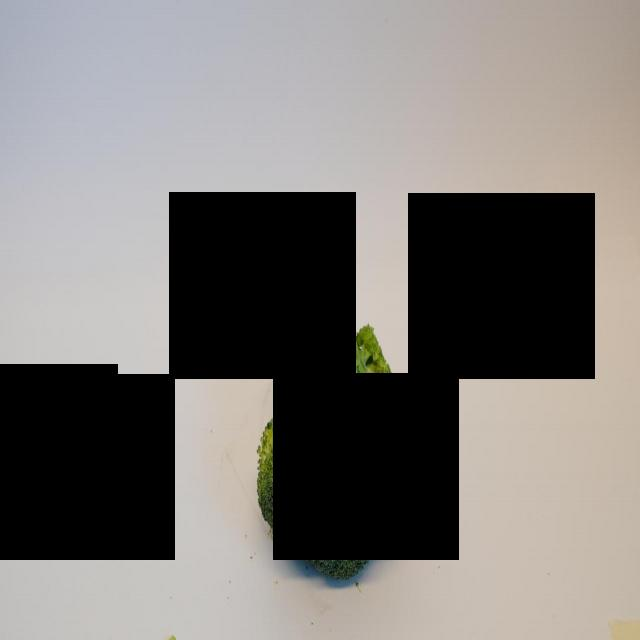broccoli: (255, 262, 418, 592)
